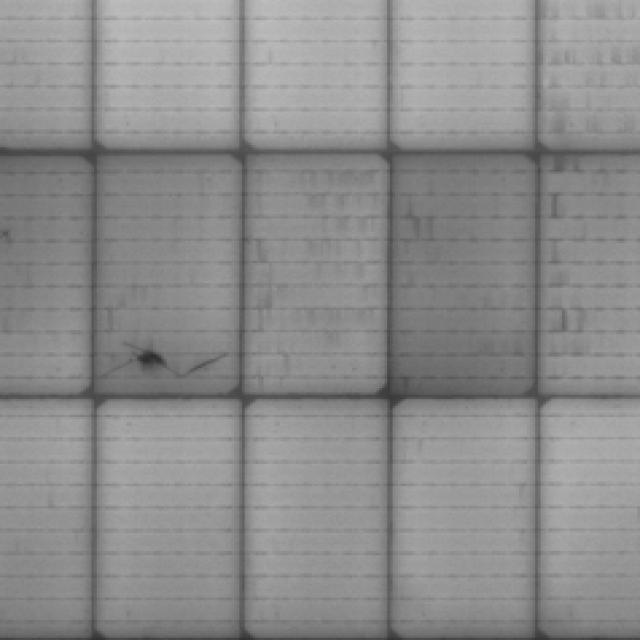CRACK: (82, 340, 229, 398)
